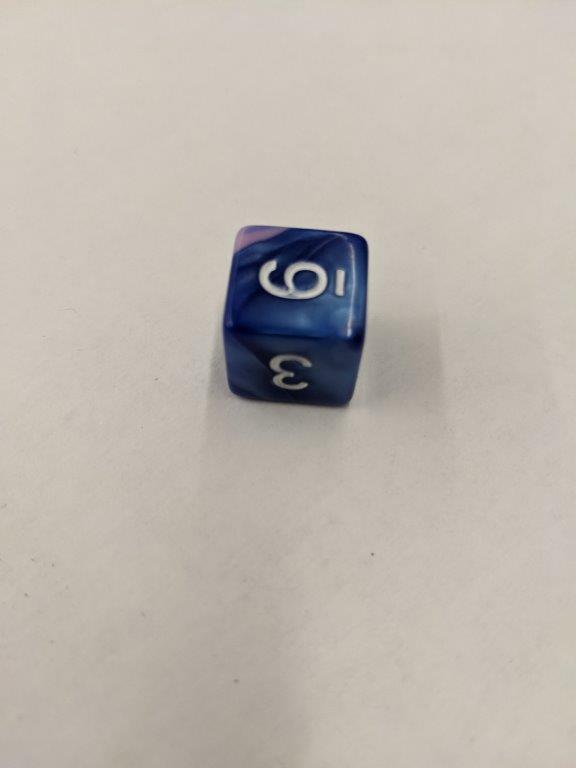d6-6: (223, 220, 370, 414)
